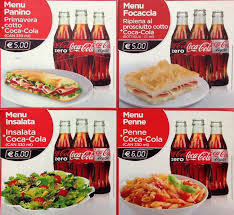coke: (55, 116, 113, 200)
